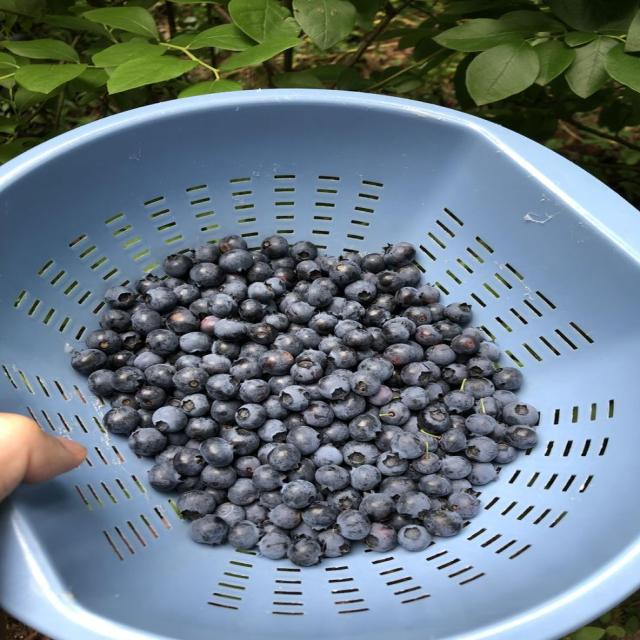blueberry: (287, 284, 333, 322), (188, 298, 219, 334), (190, 515, 228, 544), (221, 427, 259, 456), (165, 303, 200, 334), (337, 509, 371, 540), (248, 322, 278, 357), (129, 428, 166, 456), (302, 502, 339, 530), (281, 480, 316, 509), (104, 406, 139, 435), (424, 510, 463, 536), (200, 437, 233, 467), (342, 441, 379, 467), (364, 522, 397, 551), (287, 426, 320, 455), (360, 494, 395, 521), (400, 362, 439, 386), (227, 520, 259, 549), (174, 447, 206, 476), (267, 443, 300, 471), (332, 393, 366, 420), (287, 539, 321, 566), (153, 406, 187, 433), (148, 462, 179, 491), (349, 413, 381, 441), (391, 432, 424, 459), (398, 524, 431, 551), (112, 366, 145, 393), (502, 402, 539, 426), (382, 317, 416, 343), (396, 492, 430, 518), (86, 329, 121, 354), (384, 343, 422, 366), (318, 530, 350, 557), (147, 329, 179, 356), (200, 465, 236, 489), (189, 263, 225, 287), (260, 350, 294, 375), (315, 465, 349, 490), (72, 350, 106, 375), (228, 478, 258, 506), (448, 492, 479, 519), (259, 532, 290, 559), (145, 287, 177, 313), (253, 464, 285, 490), (206, 374, 239, 399), (318, 375, 351, 400), (185, 417, 219, 441), (219, 249, 253, 273), (290, 360, 324, 384), (303, 400, 333, 427), (467, 436, 498, 462), (279, 385, 310, 411), (269, 503, 300, 529), (145, 364, 176, 390), (350, 465, 381, 491), (358, 357, 393, 380), (327, 488, 362, 511), (329, 261, 360, 286), (235, 404, 266, 429), (350, 371, 381, 396), (419, 473, 451, 497), (440, 456, 472, 480), (247, 254, 273, 283), (377, 452, 408, 476), (379, 401, 410, 425), (384, 243, 415, 267), (506, 425, 537, 449), (135, 385, 166, 409), (214, 319, 246, 342), (375, 425, 403, 451), (215, 502, 246, 525), (312, 444, 343, 467), (345, 280, 376, 303), (287, 458, 316, 482), (211, 400, 240, 424), (105, 286, 135, 309), (163, 254, 193, 277), (257, 419, 287, 442), (328, 345, 358, 368), (100, 309, 131, 331), (443, 390, 474, 412), (466, 413, 497, 435), (180, 332, 212, 353), (376, 271, 405, 294), (181, 394, 210, 417), (400, 387, 429, 410), (412, 451, 441, 474), (493, 367, 522, 390), (426, 344, 456, 366), (467, 463, 497, 485), (200, 354, 231, 375), (439, 428, 466, 452), (261, 235, 289, 258), (247, 281, 275, 304), (321, 421, 349, 444), (309, 312, 337, 335), (386, 513, 418, 533), (218, 280, 247, 302), (342, 328, 372, 349), (465, 378, 494, 399), (134, 351, 164, 371), (262, 396, 287, 420), (239, 299, 265, 322), (240, 339, 268, 360), (363, 307, 391, 328), (403, 306, 431, 327), (174, 284, 199, 307), (367, 385, 393, 407), (234, 456, 260, 478), (442, 363, 469, 384), (474, 397, 502, 417), (467, 356, 493, 377), (445, 303, 471, 324), (434, 320, 461, 340), (135, 274, 162, 294), (396, 265, 420, 287), (218, 235, 247, 253), (267, 375, 293, 395), (212, 340, 239, 359), (290, 241, 317, 260), (175, 476, 205, 493), (494, 442, 517, 464), (290, 522, 318, 540), (194, 243, 220, 262), (246, 502, 267, 525), (395, 287, 419, 307), (361, 254, 386, 273), (110, 393, 139, 409), (477, 342, 500, 362), (373, 293, 397, 312), (256, 443, 277, 464), (259, 490, 282, 509), (174, 354, 201, 369), (463, 327, 488, 343), (204, 487, 226, 504), (490, 423, 508, 441), (163, 277, 185, 290), (452, 479, 472, 493), (138, 410, 153, 427)
